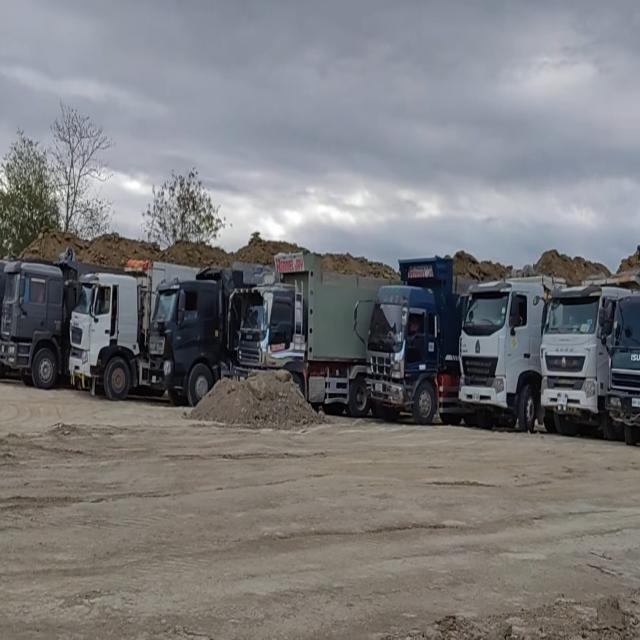truck: (231, 247, 391, 419), (356, 254, 486, 428), (69, 254, 201, 404), (456, 269, 566, 438), (0, 246, 126, 392), (146, 258, 262, 410), (534, 261, 626, 438), (600, 263, 640, 444)
